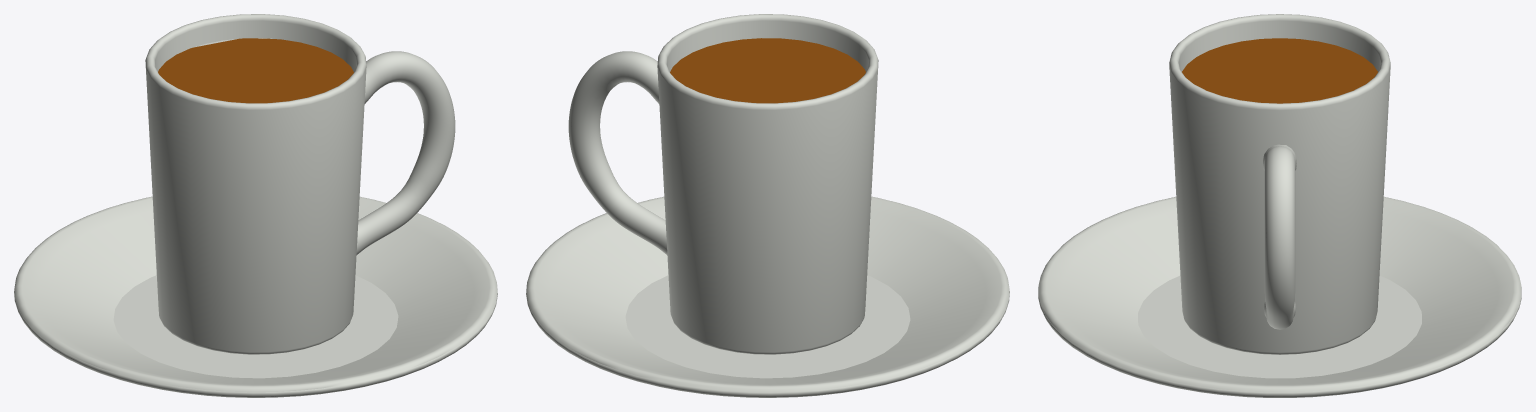
File: kahveb 1.fbx
The picture shows the model from 3 angles, left to right: view 1: azimuth 30°, elevation 25°; view 2: azimuth 150°, elevation 25°; view 3: azimuth 270°, elevation 25°; orthographic projection.
Parts seen in each view (by area): view 1: Cylinder.002; view 2: Cylinder.002; view 3: Cylinder.002.
Part boxes in pixels (x1,y1,x2,y2): Cylinder.002: (14, 14, 497, 397); Cylinder.002: (526, 14, 1009, 397); Cylinder.002: (1038, 14, 1521, 397).
Size of the model in its own units: 200 by 123 by 200.
